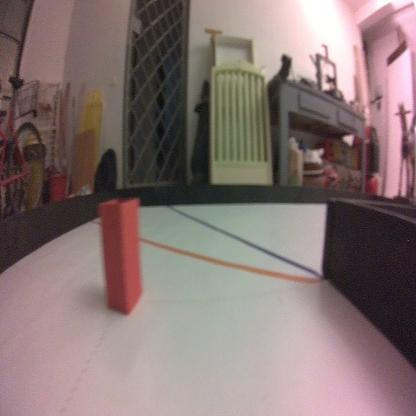red: (96, 195, 144, 316)
